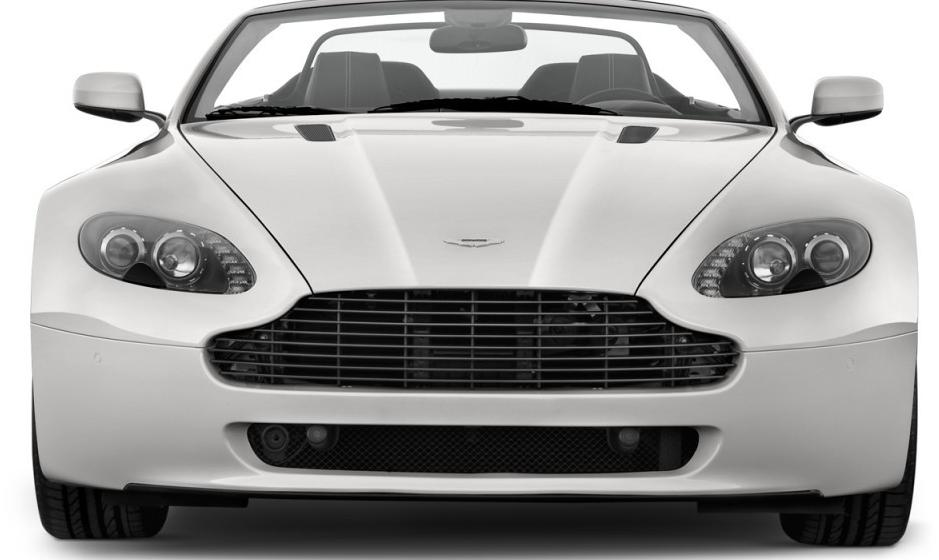front_view: (32, 178, 914, 499)
headlight: (685, 213, 888, 308)
